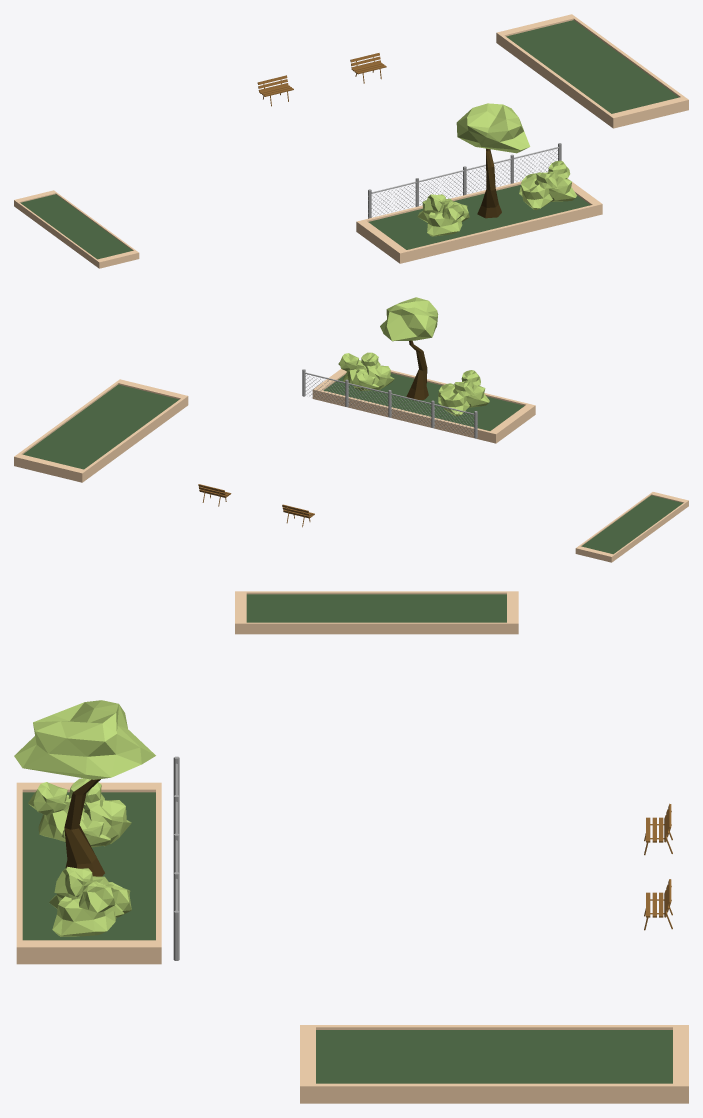
The model's file is street_extra.fbx.
3 renders of one model, top to bottom at view 1: azimuth 30°, elevation 25°; view 2: azimuth 150°, elevation 25°; view 3: azimuth 270°, elevation 25°, orthographic. The views are drawn at different scales.
Parts seen in each view (by area): view 1: Cube.033, Cube.018, Cube.032, Cube.031, Cylinder.019, Cube.021, Cube.030, Cylinder.023, Cylinder.022; view 2: Cube.033, Cube.018, Cube.032, Cube.031, Cylinder.019, Cube.021, Cube.030; view 3: Cube.033, Cube.018, Cube.032, Cube.031, Cube.021, Cube.030, Cylinder.019.
Part boxes in pixels (x1=…): Cube.033: x1=496, y1=14, x2=688, y2=128; Cube.018: x1=356, y1=178, x2=602, y2=263; Cube.032: x1=14, y1=190, x2=139, y2=268; Cube.031: x1=456, y1=103, x2=530, y2=218; Cylinder.019: x1=368, y1=143, x2=561, y2=218; Cube.021: x1=519, y1=160, x2=576, y2=210; Cube.030: x1=417, y1=194, x2=469, y2=236; Cylinder.023: x1=350, y1=53, x2=386, y2=83; Cylinder.022: x1=257, y1=75, x2=293, y2=106; Cube.033: x1=14, y1=379, x2=188, y2=482; Cube.018: x1=312, y1=369, x2=535, y2=443; Cube.032: x1=575, y1=492, x2=688, y2=562; Cube.031: x1=380, y1=297, x2=438, y2=400; Cylinder.019: x1=302, y1=369, x2=477, y2=438; Cube.021: x1=338, y1=352, x2=394, y2=390; Cube.030: x1=438, y1=370, x2=489, y2=416; Cube.033: x1=300, y1=1025, x2=688, y2=1103; Cube.018: x1=16, y1=782, x2=161, y2=964; Cube.032: x1=235, y1=591, x2=518, y2=634; Cube.031: x1=14, y1=700, x2=155, y2=876; Cube.021: x1=49, y1=866, x2=131, y2=936; Cube.030: x1=28, y1=778, x2=131, y2=847; Cylinder.019: x1=173, y1=756, x2=179, y2=960.
Size of the model in its own units: 4997 by 861 by 2885.
